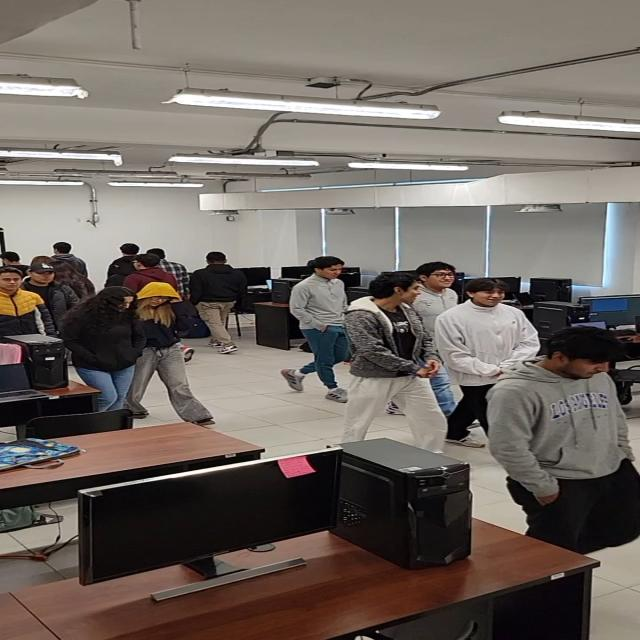Persona: (498, 331, 638, 492), (354, 274, 429, 419), (131, 285, 201, 422), (68, 286, 134, 407), (292, 257, 351, 380), (453, 280, 523, 380), (196, 250, 249, 356), (28, 258, 74, 332), (5, 270, 40, 343), (417, 255, 459, 315)
